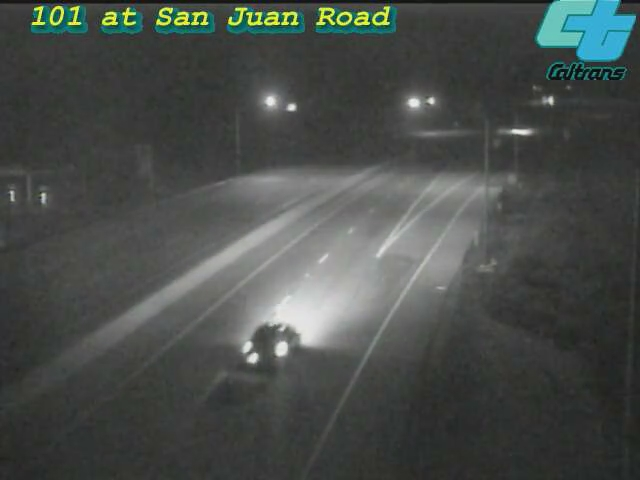vehicle: (218, 285, 328, 395), (492, 107, 542, 157)
